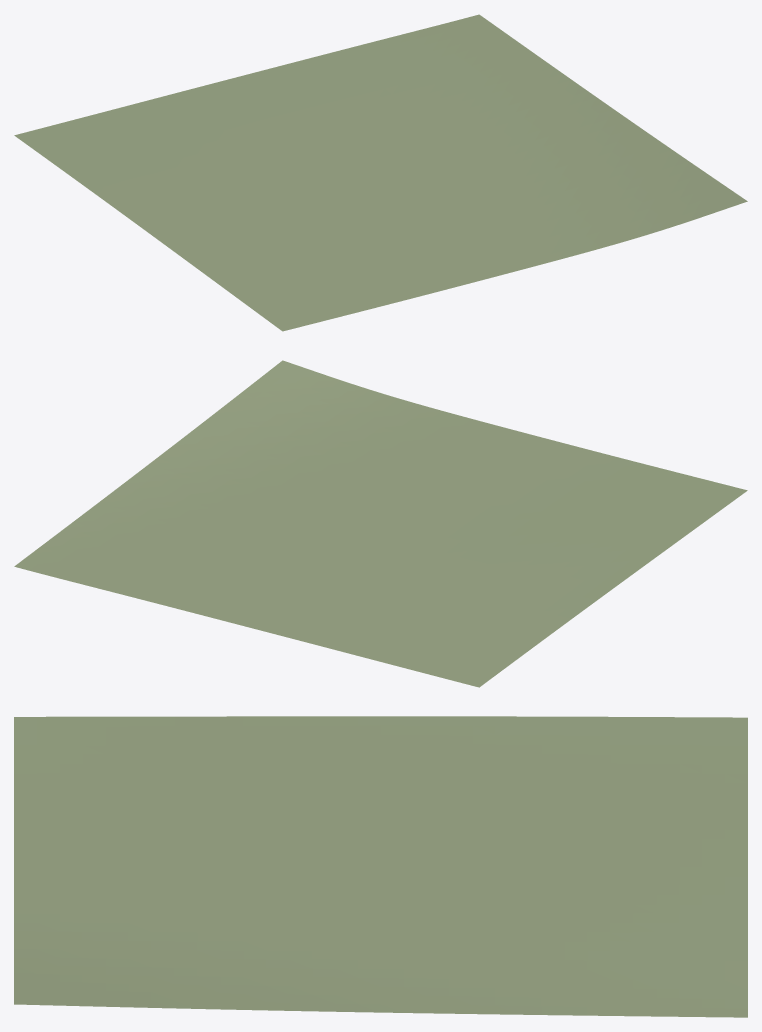
The model's file is desert-0-4.glb.
3 views of the same model, one above another, from view 1: azimuth 30°, elevation 25°; view 2: azimuth 150°, elevation 25°; view 3: azimuth 270°, elevation 25° (orthographic). The views are drawn at different scales.
Parts seen in each view (by area): view 1: desert-0-4; view 2: desert-0-4; view 3: desert-0-4.
Part boxes in pixels (x1,y1,x2,y2): desert-0-4: (14,14,747,331); desert-0-4: (14,360,747,687); desert-0-4: (14,716,747,1017).
Bounding box in the file's own units: 512 × 17.92 × 512.
